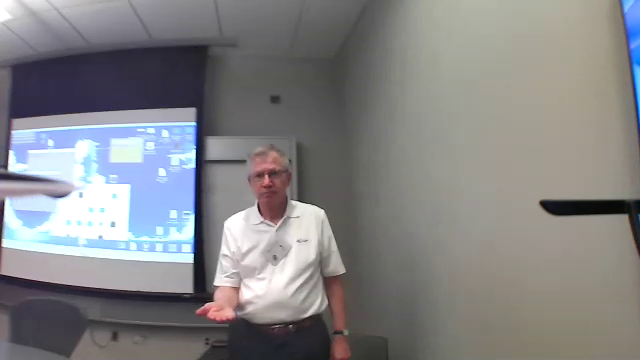land: (185, 296, 241, 328)
